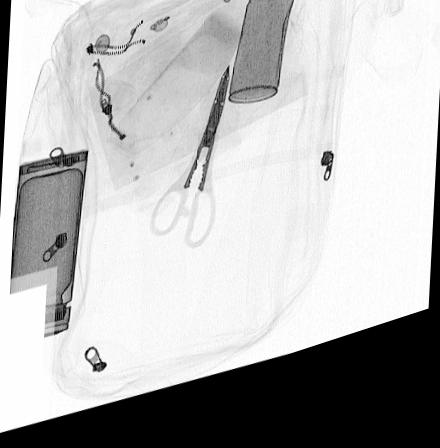Scissors: (149, 75, 231, 260)
